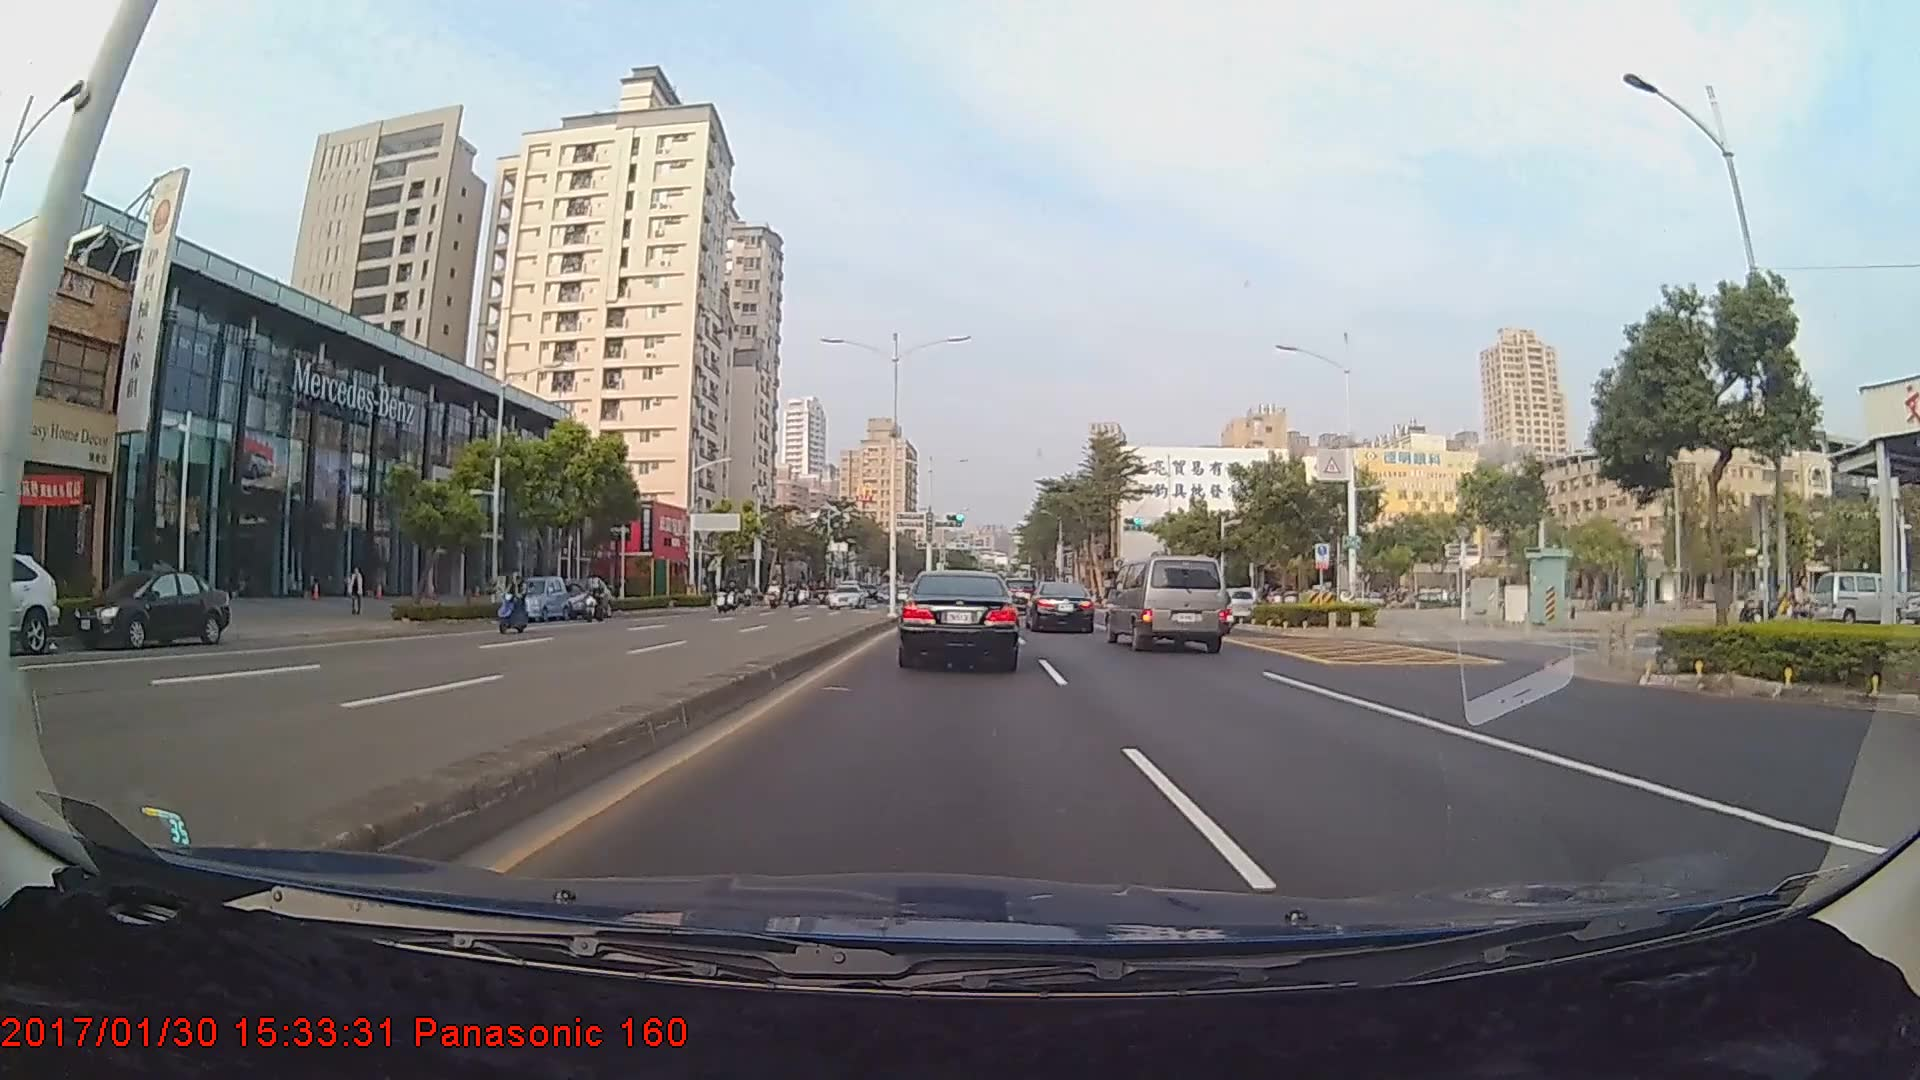pedestrian: (346, 565, 368, 621)
rider: (497, 562, 536, 638), (582, 580, 614, 627)
vehicle: (899, 566, 1018, 671), (74, 568, 229, 648), (1107, 553, 1227, 653), (0, 552, 60, 660), (1026, 581, 1096, 635), (502, 577, 569, 624), (554, 576, 608, 622), (826, 582, 864, 608)
